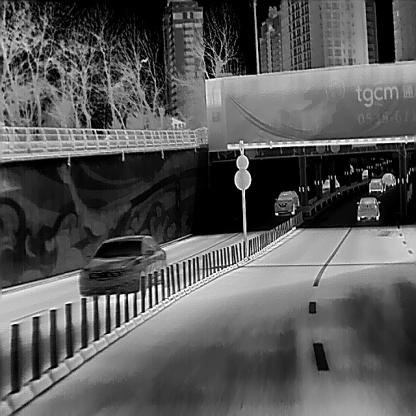car: (78, 233, 165, 297), (274, 187, 299, 214), (357, 195, 379, 220), (322, 177, 339, 195), (368, 177, 385, 191), (382, 172, 396, 184), (361, 167, 373, 179)
